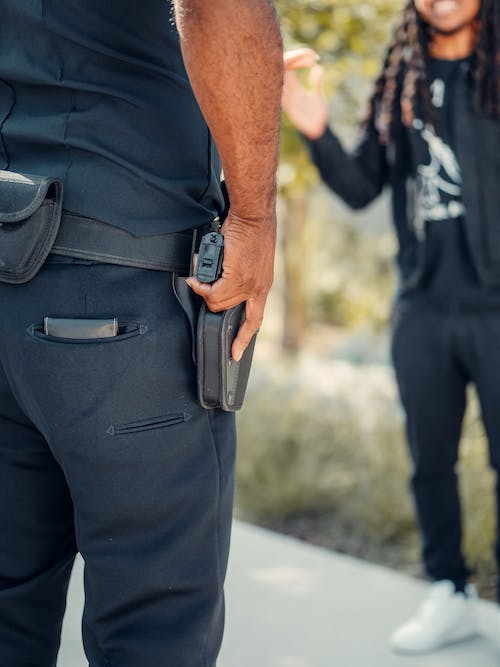gun: (193, 228, 264, 416)
